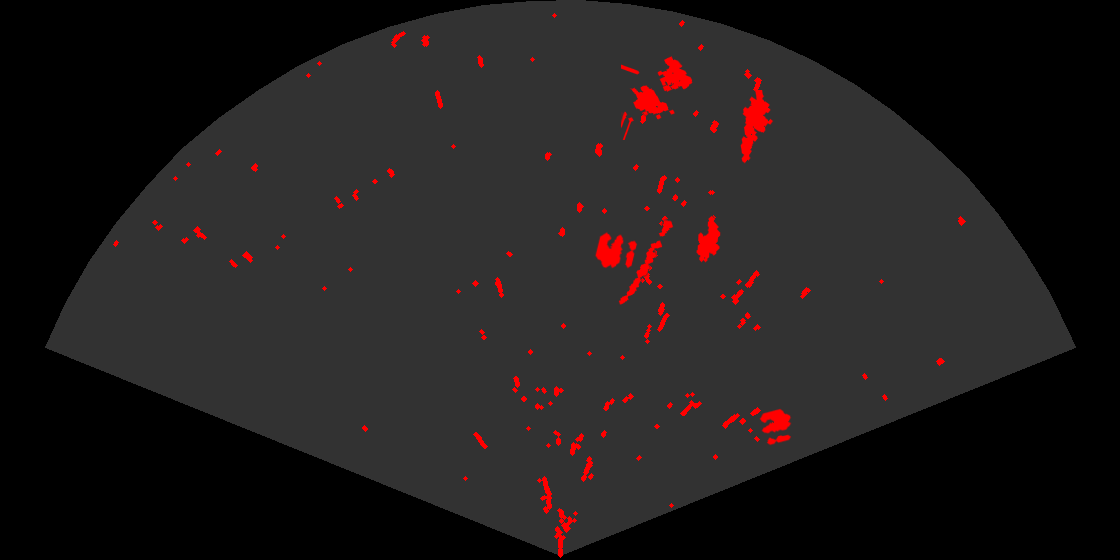AUV: (695, 214, 722, 264)
ball: (593, 230, 639, 270), (758, 407, 793, 447)
cage: (621, 55, 694, 140)
chain: (617, 218, 675, 306)
frogman: (739, 90, 775, 164)
